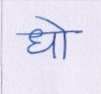e_matra: (34, 16, 69, 31)
